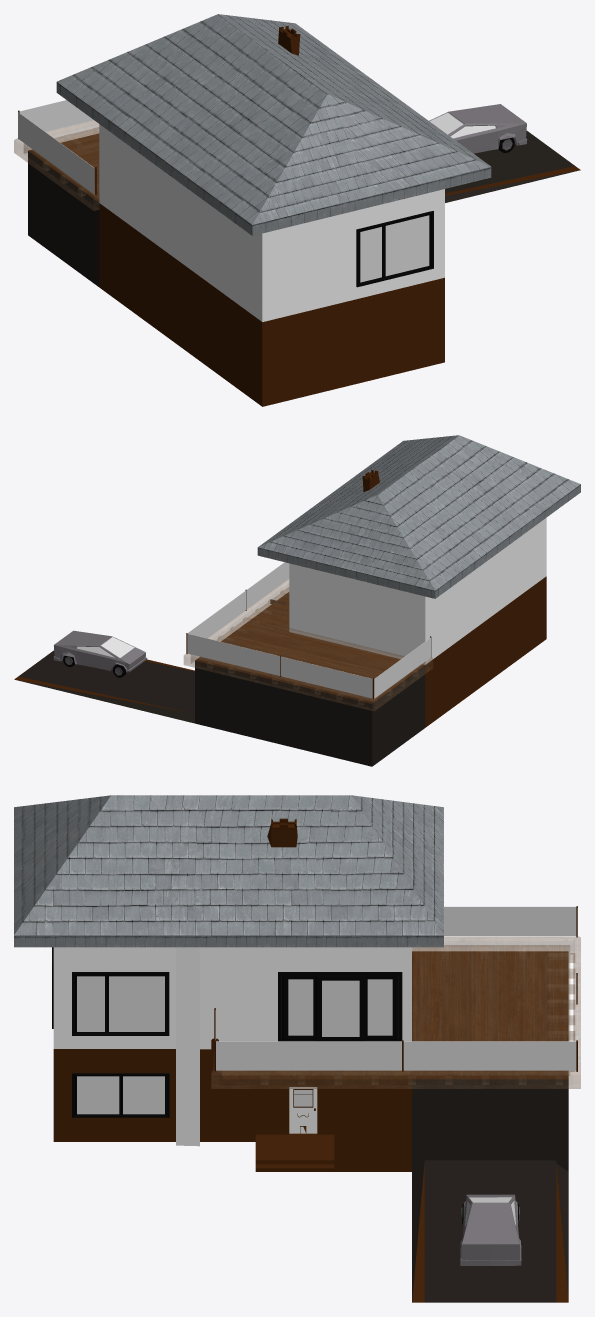
File: module23.fbx
The picture shows the model from 3 angles, top to bottom: view 1: azimuth 30°, elevation 25°; view 2: azimuth 150°, elevation 25°; view 3: azimuth 270°, elevation 25°; orthographic projection. The views are drawn at different scales.
Visible parts, largest first — view 1: House, Car; view 2: House, Car; view 3: House, Car.
Boxes of the visible parts, <box> form: House: <box>14,14,580,406</box>; Car: <box>429,104,527,153</box>; House: <box>14,435,580,766</box>; Car: <box>53,630,147,672</box>; House: <box>14,795,580,1302</box>; Car: <box>460,1194,521,1265</box>.
Bounding box in the file's own units: 5804 × 2953 × 5089.
